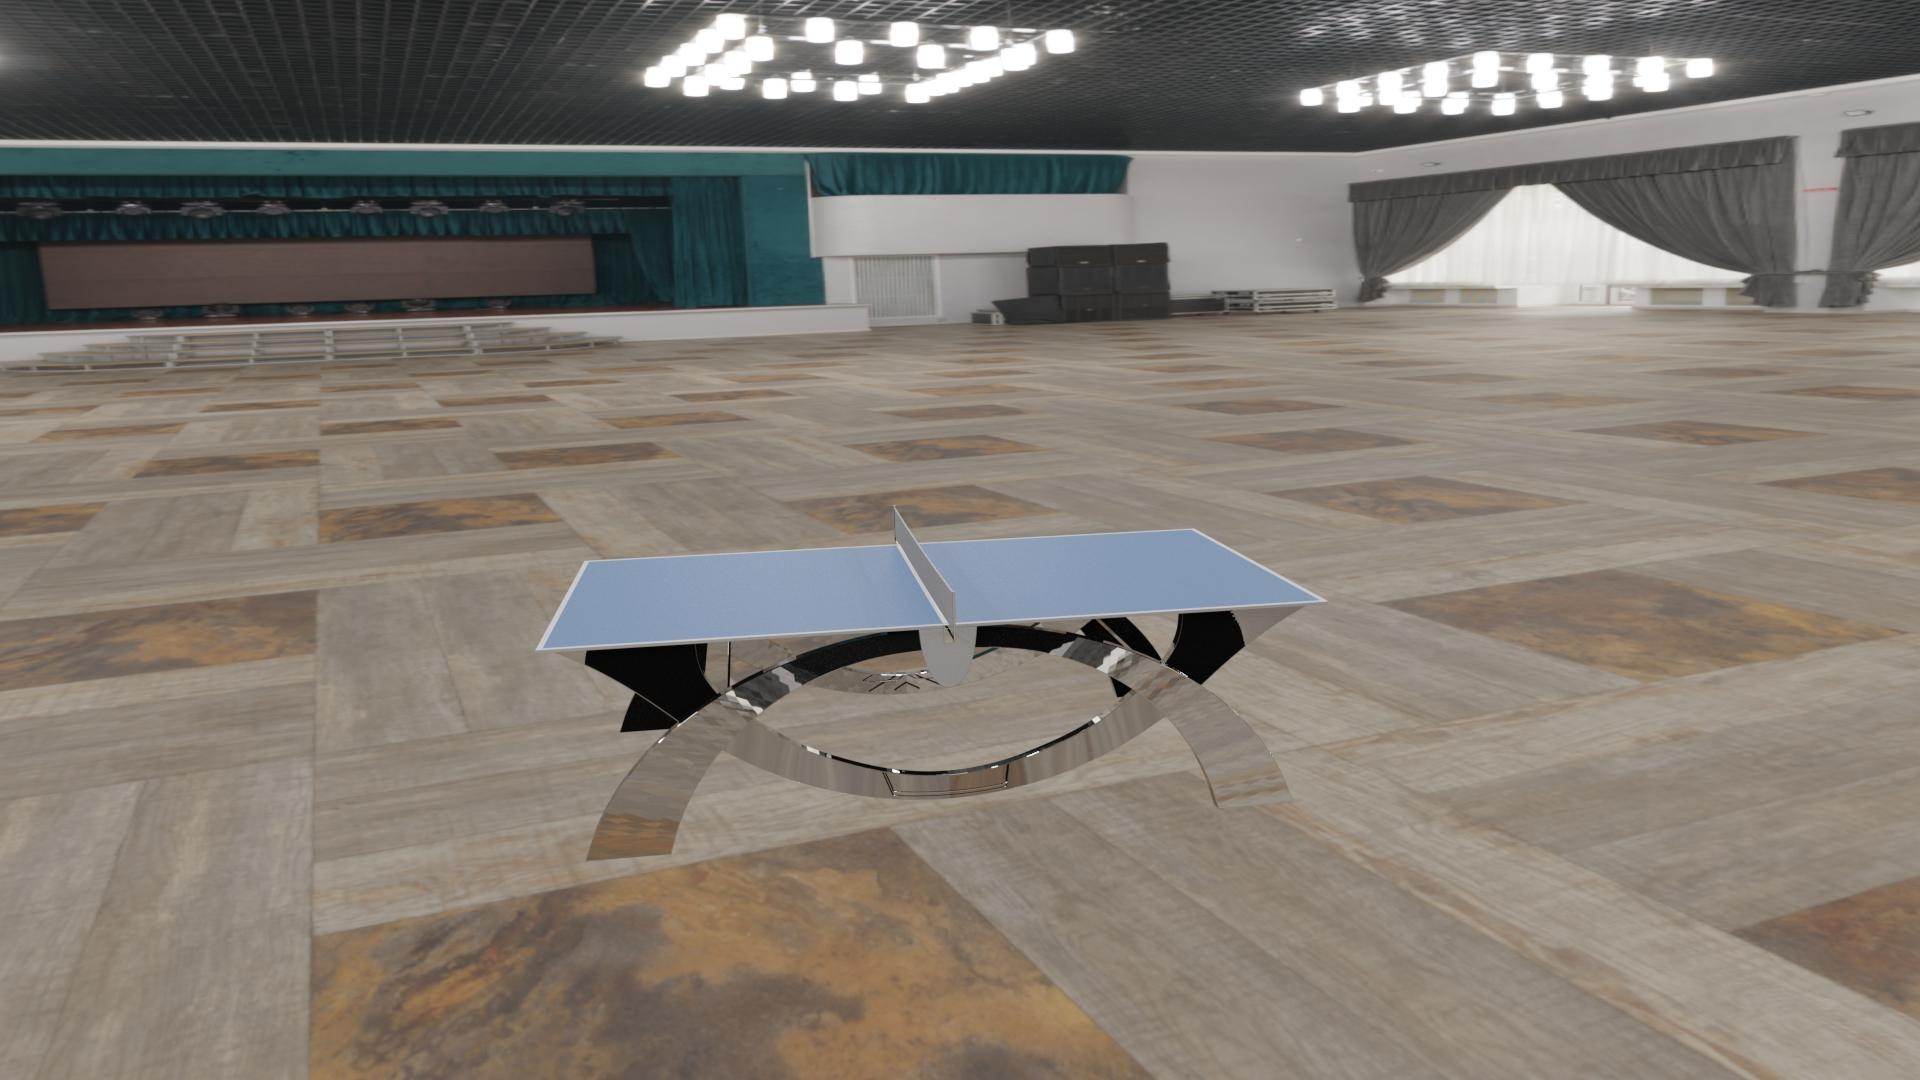table: (542, 530, 1320, 649)
